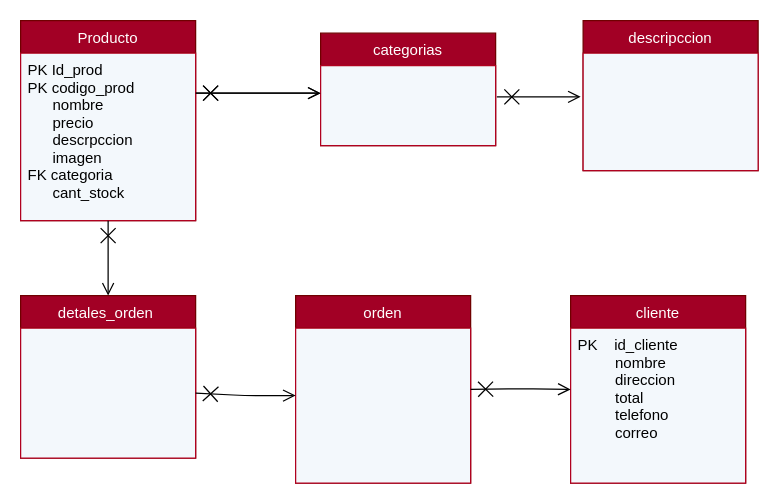
This 779x504 diagram has some shape labels left out. The shapes that lost their labels are listed below. From the top down, each one's centre as x and y in pixels, then its label:
At (407,105): "PK Id_categoria FK Id_prod categoria".
At (670,111): "PK Id_prod nombre descripccion imagen categoria".
At (107,392): "PK Id_detalle_orden FK id_orden FK prod_id precio PK codigo_prod cant_stock".
At (382,405): "PK id_orden FK id_cliente fecha total estado correo_elec direc_envio".
